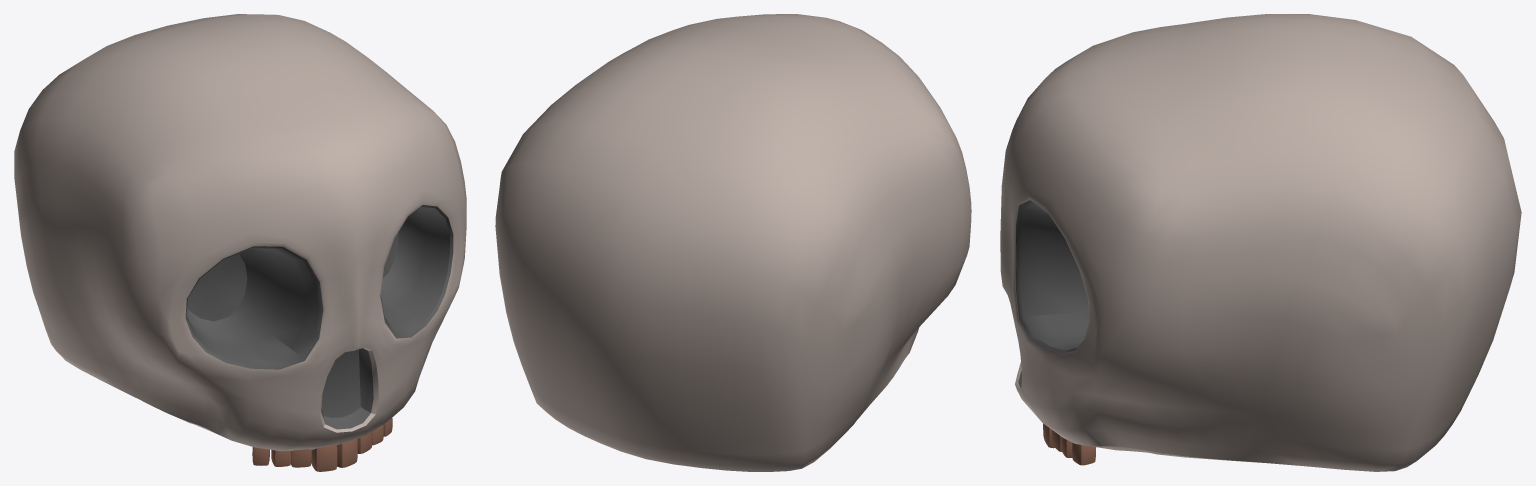
Rendered from skull.fbx.
The picture shows the model from 3 angles, left to right: view 1: azimuth 30°, elevation 25°; view 2: azimuth 150°, elevation 25°; view 3: azimuth 270°, elevation 25°; orthographic projection. The views are drawn at different scales.
Parts seen in each view (by area): view 1: Circle.002; view 2: Circle.002; view 3: Circle.002.
Part boxes in pixels (x1,y1,x2,y2): Circle.002: (14,14,466,471); Circle.002: (495,14,971,471); Circle.002: (1000,14,1521,471).
Bounding box in the file's own units: 0.3842 × 0.3762 × 0.4486.
